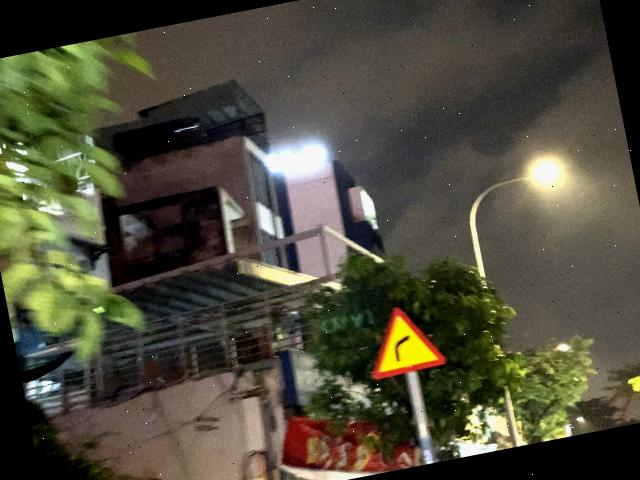cho-ngoat-nguy-hiem-ben-trai: (359, 298, 449, 381)
